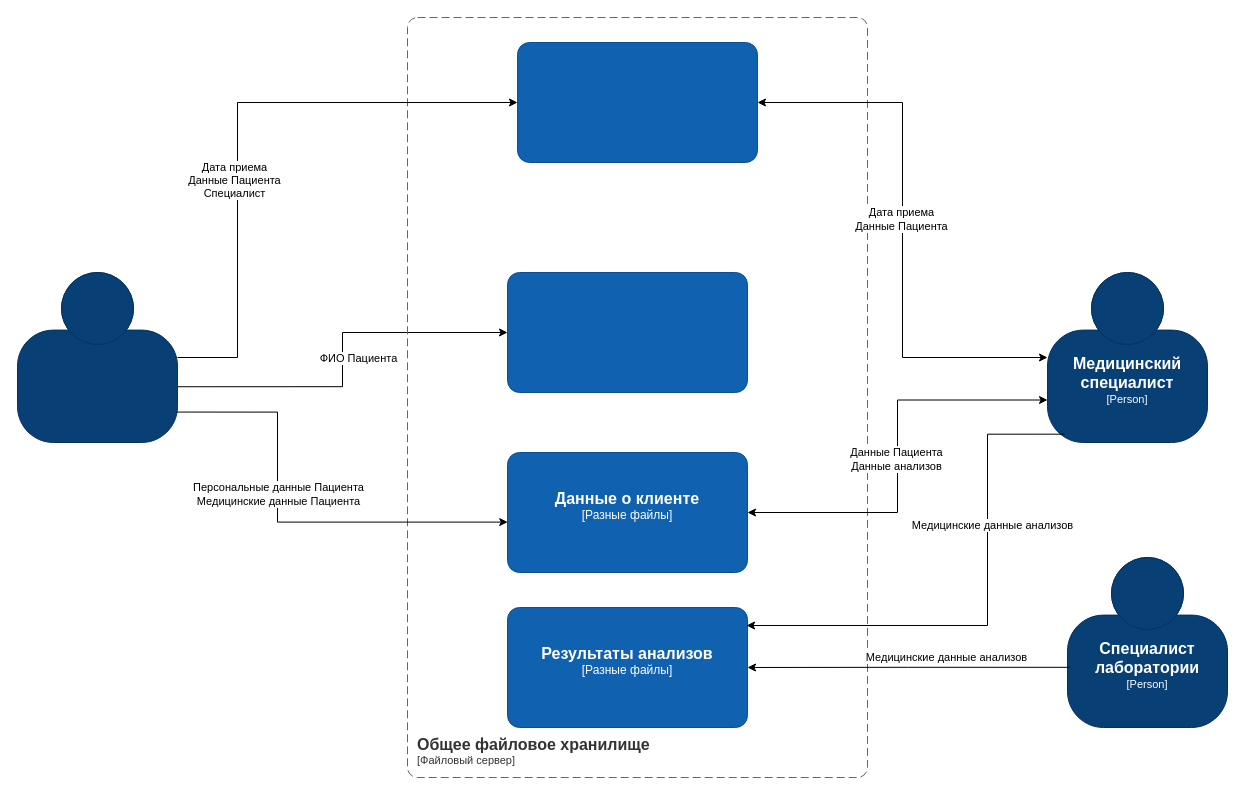
The diagram is 1245 pixels wide and 795 high, and some of its shapes have lost their labels. The centre of each missing label's shape, as x and y in pixels:
Администратор [Person] Reception: (97,357)
Записи на прием [Excel]: (637,102)
Список пациентов [Excel]: (627,332)
